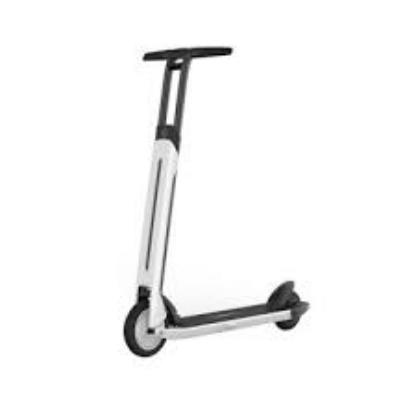bike: (122, 47, 311, 359)
